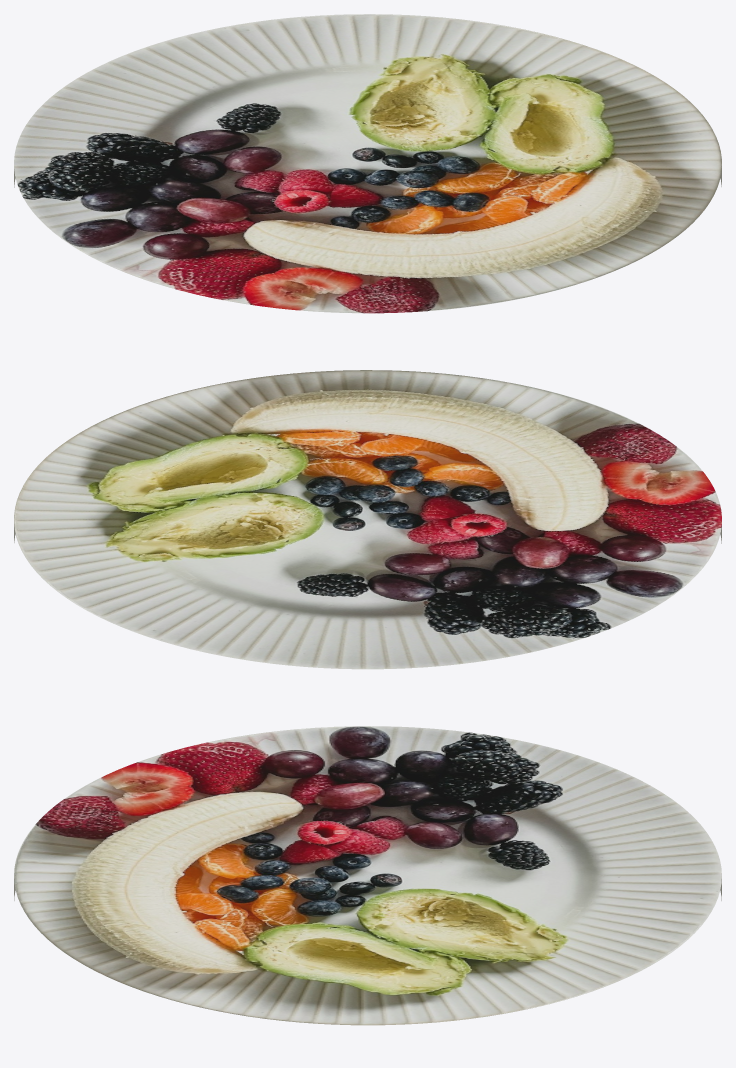
File: prato.glb
The picture shows the model from 3 angles, top to bottom: view 1: azimuth 30°, elevation 25°; view 2: azimuth 150°, elevation 25°; view 3: azimuth 270°, elevation 25°; orthographic projection.
Visible parts, largest first — view 1: prato; view 2: prato; view 3: prato.
Boxes of the visible parts, box(x1,y1,x2,y2) form: prato: box(14, 14, 721, 313); prato: box(14, 370, 721, 669); prato: box(14, 726, 721, 1025).
Size of the model in its own units: 0.27 by 0.012 by 0.27.
1 material, 1 textured.
